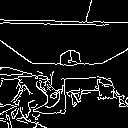cube: (50, 46, 87, 70)
